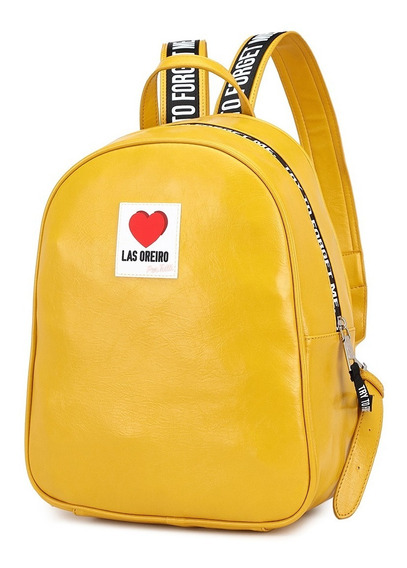cartera: (20, 30, 386, 535)
